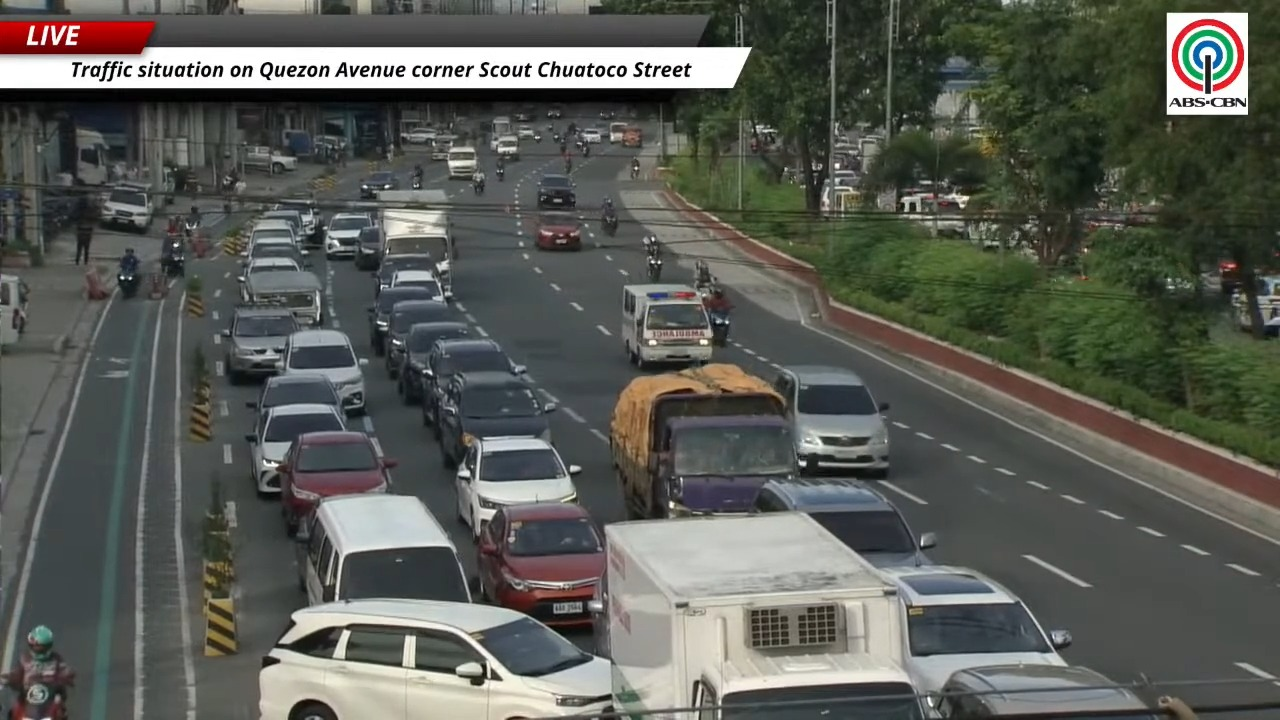bus: (489, 116, 515, 151)
car: (257, 599, 611, 719), (880, 566, 1071, 693), (752, 478, 936, 566), (477, 503, 604, 626), (774, 366, 889, 477), (455, 438, 581, 539), (277, 430, 395, 536), (929, 664, 1156, 719), (438, 371, 555, 464), (422, 337, 526, 438), (245, 404, 345, 494), (281, 329, 366, 414), (222, 305, 298, 384), (397, 322, 469, 404), (384, 299, 456, 378), (367, 287, 436, 355), (246, 372, 341, 414), (237, 256, 301, 302), (374, 253, 436, 295), (273, 192, 321, 244), (99, 186, 153, 231), (324, 212, 371, 258), (243, 219, 299, 256), (535, 211, 582, 250), (242, 239, 307, 266), (390, 269, 444, 301), (353, 219, 384, 271), (240, 255, 302, 281), (259, 208, 309, 240), (537, 174, 575, 208), (446, 144, 478, 179), (360, 171, 399, 198), (430, 134, 455, 160), (401, 127, 437, 144), (496, 135, 519, 160), (581, 129, 604, 143), (514, 108, 534, 122), (517, 125, 535, 139), (546, 107, 563, 118), (598, 110, 616, 119)
motorcycle: (6, 682, 65, 719), (162, 241, 184, 277), (709, 311, 730, 346), (117, 269, 138, 298), (646, 256, 662, 282), (601, 212, 618, 236), (184, 218, 200, 239), (552, 133, 562, 150), (473, 180, 484, 194), (630, 164, 639, 179), (495, 167, 504, 181), (582, 142, 590, 157), (411, 176, 420, 189), (564, 158, 571, 174), (559, 141, 567, 154), (533, 133, 542, 142)
truck: (589, 512, 925, 719), (609, 363, 798, 519), (378, 189, 456, 298), (242, 145, 297, 174)
